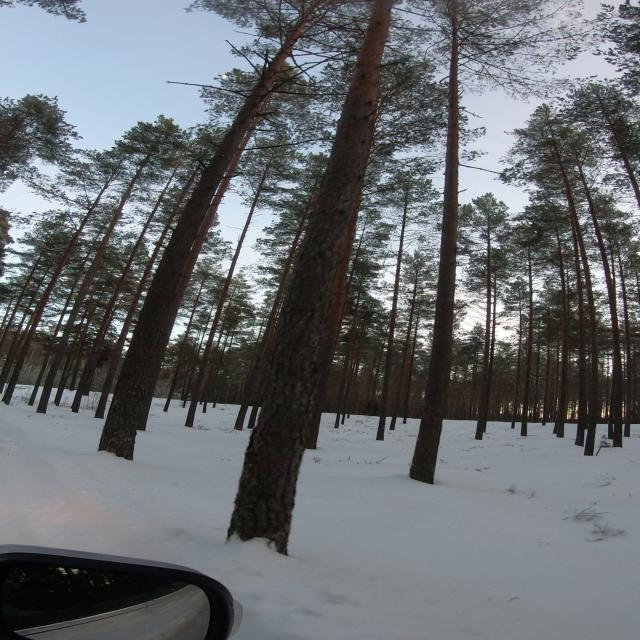trees: (99, 0, 328, 459), (228, 0, 393, 554), (37, 142, 152, 413), (72, 169, 177, 410), (409, 0, 460, 484), (2, 186, 106, 405), (185, 168, 268, 427), (234, 187, 316, 430), (94, 203, 179, 418), (553, 144, 600, 456), (577, 163, 622, 446), (376, 202, 407, 440), (28, 273, 79, 406), (0, 258, 41, 352), (520, 236, 538, 436), (484, 278, 497, 431)
